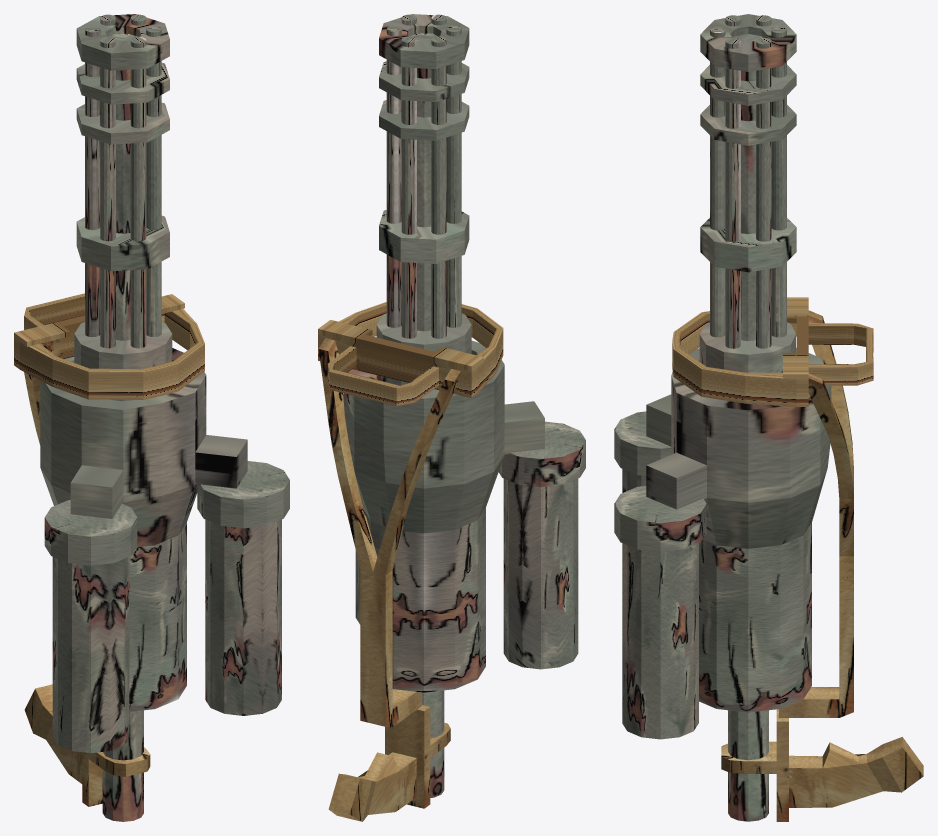
The model's file is Machinegun.glb.
The picture shows the model from 3 angles, left to right: view 1: azimuth 30°, elevation 25°; view 2: azimuth 150°, elevation 25°; view 3: azimuth 270°, elevation 25°; orthographic projection. The views are drawn at different scales.
Visible parts, largest first — view 1: Machinegun; view 2: Machinegun; view 3: Machinegun.
Boxes of the visible parts, box(x1,y1,x2,y2) form: Machinegun: box(14, 14, 289, 821); Machinegun: box(318, 14, 585, 821); Machinegun: box(614, 14, 923, 821).
Size of the model in its own units: 0.2863 by 0.9217 by 0.33.
1 material, 1 textured.
